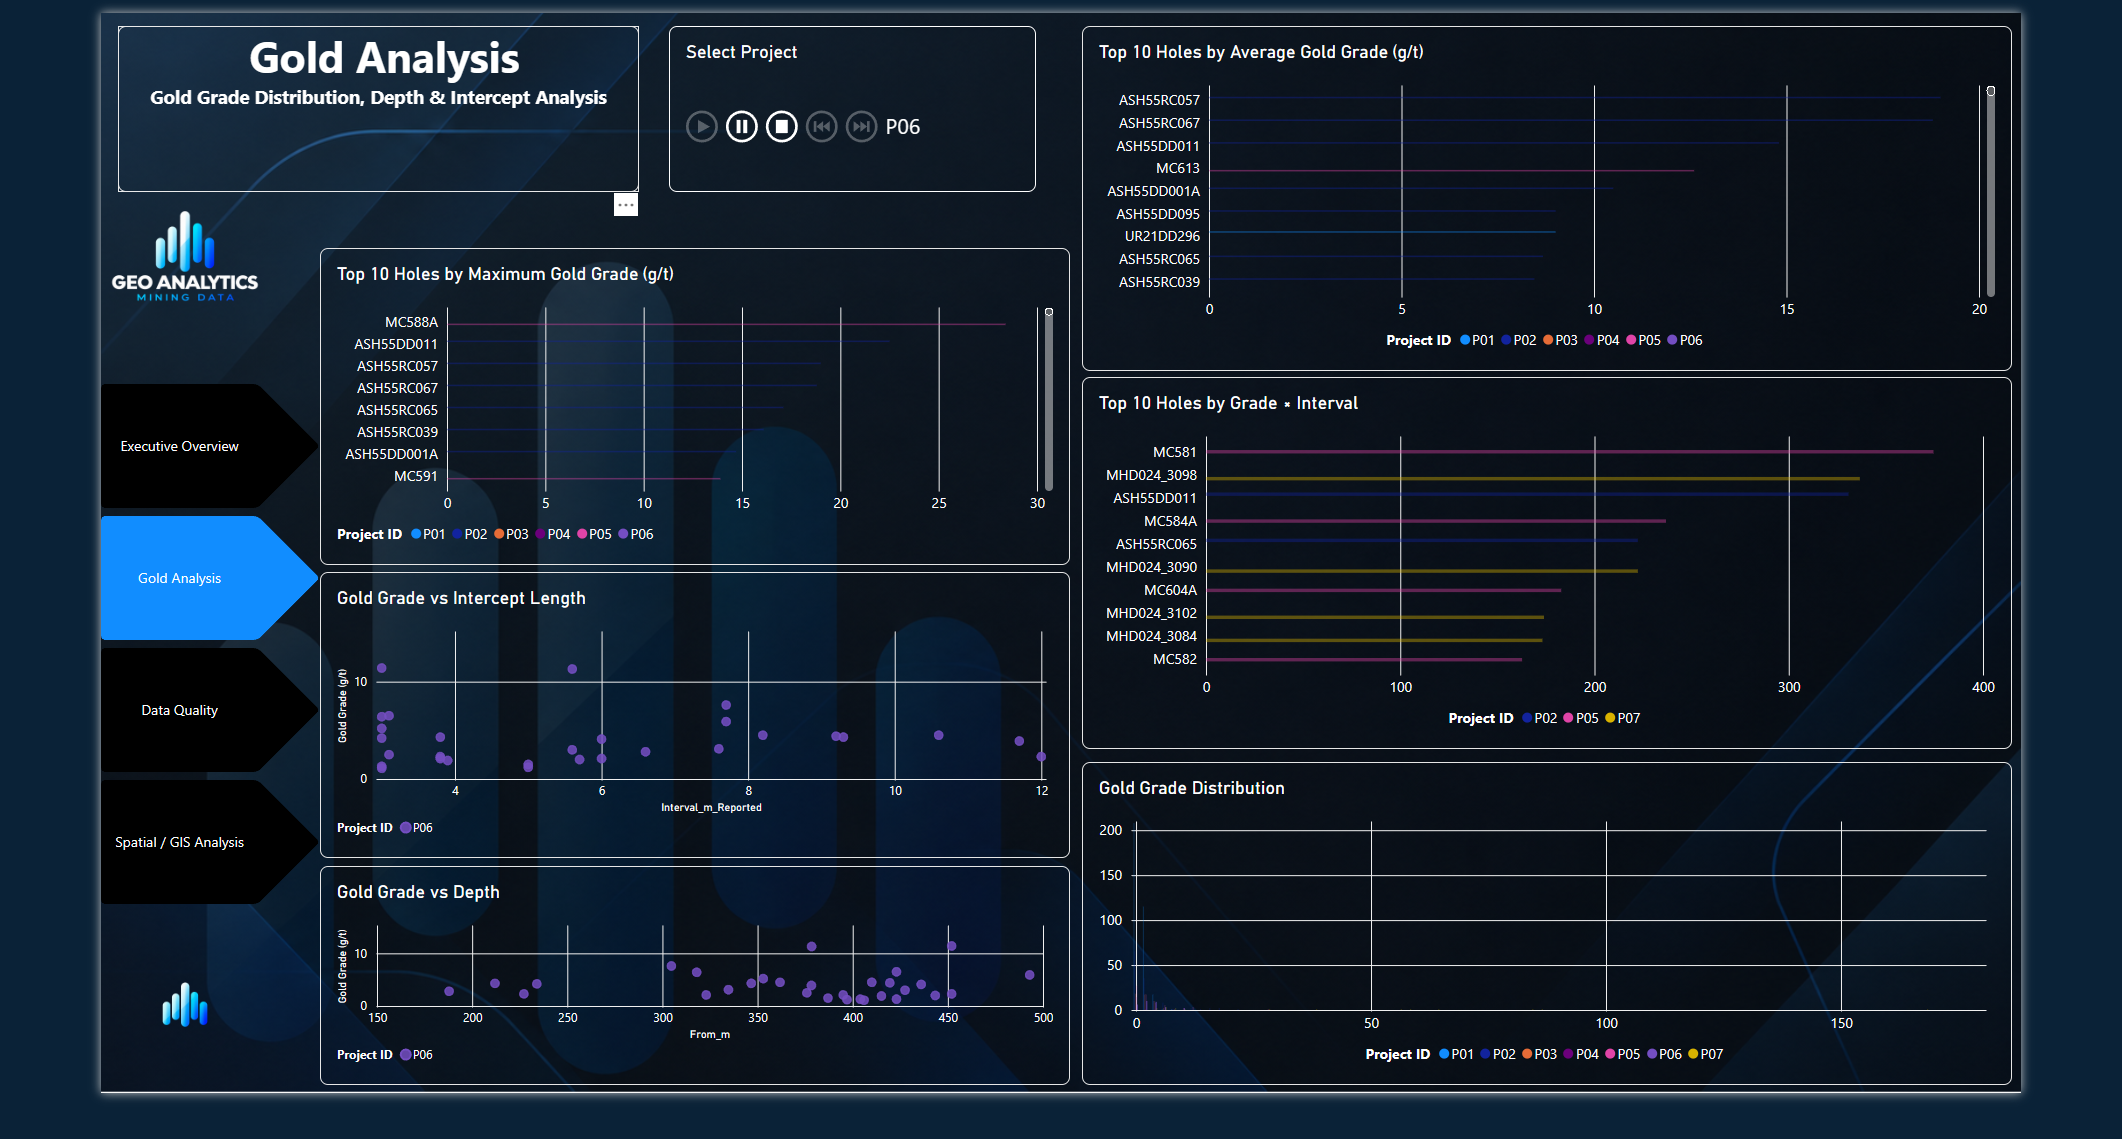

What the dashboard file says about the page in this screenshot:
{"tool":"powerbi","page":{"name":"Gold Analysis","canvas":[1920,1080],"ordinal":1},"visuals":[{"type":"clusteredColumnChart","title":"Gold Grade Distribution","fields":{"Category":["mining_geology_project intercepts.Au_g_t (bins)"],"Y":["Count(mining_geology_project intercepts.Intercept_ID)"]},"box":[969.2,722.3,950.8,358.1],"z":0},{"type":"clusteredBarChart","title":"Top 10 Holes by Grade × Interval","fields":{"Category":["mining_geology_project intercepts.Hole_ID"],"Y":["Max(mining_geology_project intercepts.Grade_Interval)"]},"box":[968.8,336.7,951.2,385.8],"z":1000},{"type":"clusteredBarChart","title":"Top 10 Holes by Maximum Gold Grade (g/t)","fields":{"Category":["mining_geology_project drillholes.Hole_ID"],"Y":["Max(mining_geology_project intercepts.Au_g_t)"]},"box":[0,234.6,968.8,337.7],"z":2000},{"type":"clusteredBarChart","title":"Top 10 Holes by Average Gold Grade (g/t)","fields":{"Category":["mining_geology_project drillholes.Hole_ID"],"Y":["Avg(mining_geology_project intercepts.Au_g_t)"]},"box":[968.8,0,951.2,336.7],"z":3000},{"type":"scatterChart","title":"Gold Grade vs Depth","fields":{"Series":["mining_geology_project intercepts.Project_ID"],"X":["mining_geology_project intercepts.From_m"],"Y":["mining_geology_project intercepts.Au_g_t"]},"box":[0,844.7,969.2,235.7],"z":4000},{"type":"scatterChart","title":"Gold Grade vs Intercept Length","fields":{"Series":["mining_geology_project intercepts.Project_ID"],"X":["mining_geology_project intercepts.Interval_m_Reported"],"Y":["mining_geology_project intercepts.Au_g_t"]},"box":[0,572.3,968.8,272.9],"z":5000},{"type":"PBI_CV_16948668_E17D_454B_8664_2F2C470EA8C1","fields":{"category":["mining_geology_project drillholes.Project_ID"]},"box":[304.6,0,664.7,234.6],"z":6000},{"type":"textbox","box":[0,0,305,234.6],"z":7000}]}

Visuals, with their boxes on the page's 1920x1080 design canvas (x1, y1, x2, y2). These are canvas units, not pixel positions in the 2122x1139 screenshot, which may show the page scaled, cropped or inside an application window:
"Gold Grade Distribution" clusteredColumnChart: 969, 722, 1920, 1080
"Top 10 Holes by Grade × Interval" clusteredBarChart: 969, 337, 1920, 722
"Top 10 Holes by Maximum Gold Grade (g/t)" clusteredBarChart: 0, 235, 969, 572
"Top 10 Holes by Average Gold Grade (g/t)" clusteredBarChart: 969, 0, 1920, 337
"Gold Grade vs Depth" scatterChart: 0, 845, 969, 1080
"Gold Grade vs Intercept Length" scatterChart: 0, 572, 969, 845
PBI_CV_16948668_E17D_454B_8664_2F2C470EA8C1 - mining_geology_project drillholes.Project_ID: 305, 0, 969, 235
textbox: 0, 0, 305, 235
